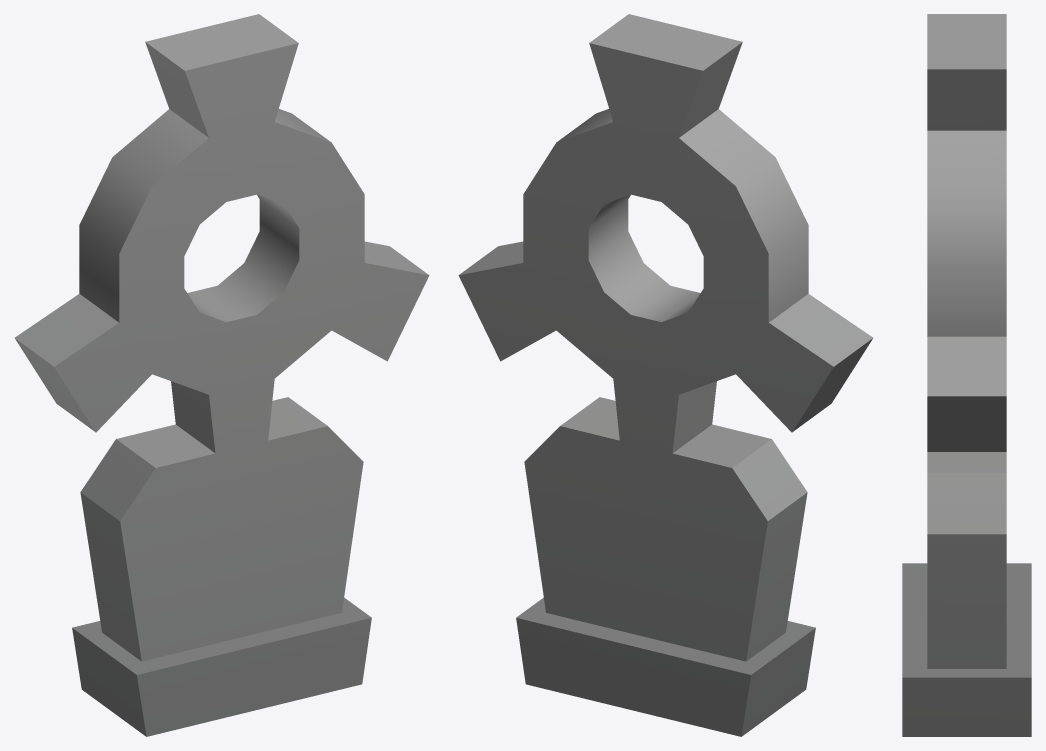
Rendered from grave_stone.fbx.
3 renders of one model, left to right at view 1: azimuth 30°, elevation 25°; view 2: azimuth 150°, elevation 25°; view 3: azimuth 270°, elevation 25°, orthographic.
Visible parts, largest first — view 1: grave_stone; view 2: grave_stone; view 3: grave_stone.
Part boxes in pixels (x1=…): grave_stone: x1=14, y1=14, x2=429, y2=736; grave_stone: x1=458, y1=14, x2=873, y2=736; grave_stone: x1=902, y1=14, x2=1031, y2=736.
Bounding box in the file's own units: 5.45 × 8.95 × 1.63.
